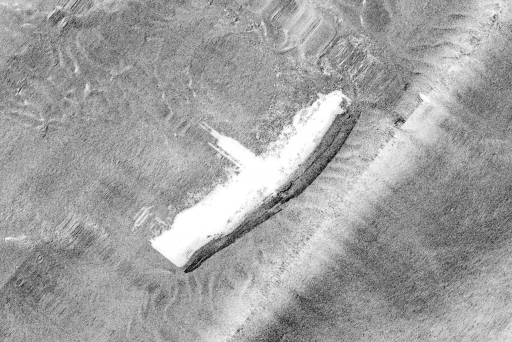ship: (148, 90, 350, 269)
